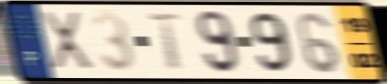3: (93, 8, 136, 75)
6: (296, 9, 342, 76)
9: (195, 9, 241, 75), (249, 10, 295, 75)
T: (144, 12, 186, 73)
X: (38, 9, 97, 74)
